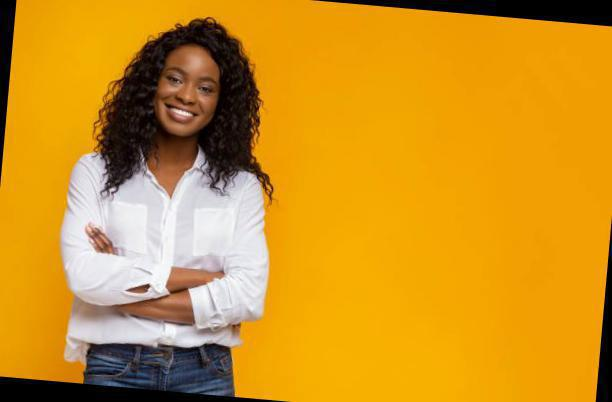Sober: (158, 52, 213, 129)
